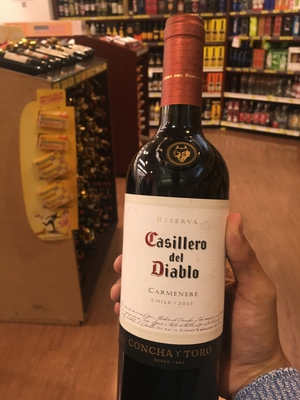casillero del diablo carmenere: (103, 33, 238, 400)
